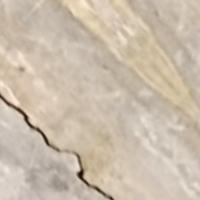crack: (0, 87, 113, 199)
